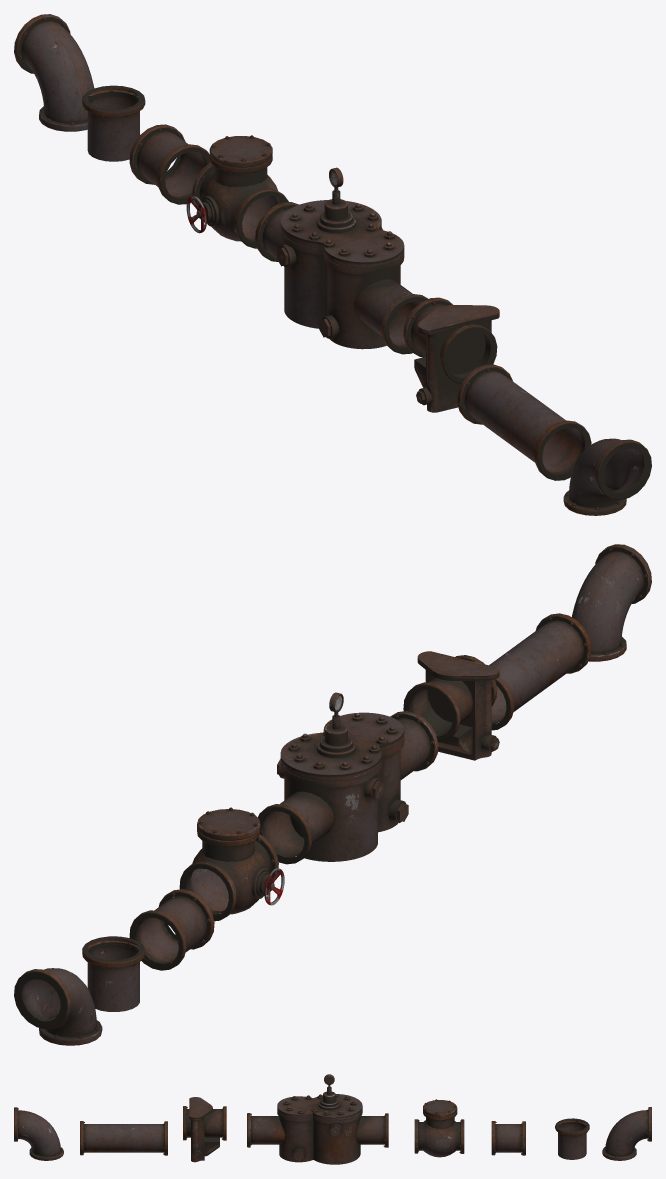
File: pipe_metalic_metal_-_14mb.glb
3 renders of one model, top to bottom at view 1: azimuth 30°, elevation 25°; view 2: azimuth 150°, elevation 25°; view 3: azimuth 270°, elevation 25°, orthographic. The views are drawn at different scales.
Visible parts, largest first — view 1: 05_01_0, 03_01_0, 04_01_0, 06_01_0, 08_01_0, 02_01_0, 07_01_0, 01_01_0; view 2: 05_01_0, 06_01_0, 04_01_0, 03_01_0, 02_01_0, 08_01_0, 07_01_0, 01_01_0; view 3: 05_01_0, 03_01_0, 06_01_0, 04_01_0, 02_01_0, 08_01_0, 01_01_0, 07_01_0.
Part boxes in pixels (left/top/right/bottom): 05_01_0: left=255, top=167, right=428, bottom=354; 03_01_0: left=457, top=364, right=591, bottom=480; 04_01_0: left=403, top=297, right=499, bottom=412; 06_01_0: left=186, top=135, right=288, bottom=248; 08_01_0: left=14, top=14, right=94, bottom=131; 02_01_0: left=563, top=438, right=651, bottom=515; 07_01_0: left=129, top=124, right=209, bottom=204; 01_01_0: left=82, top=85, right=145, bottom=161; 05_01_0: left=258, top=692, right=438, bottom=864; 06_01_0: left=179, top=807, right=284, bottom=921; 04_01_0: left=403, top=651, right=499, bottom=760; 03_01_0: left=489, top=613, right=591, bottom=730; 02_01_0: left=572, top=544, right=651, bottom=661; 08_01_0: left=14, top=968, right=102, bottom=1045; 07_01_0: left=129, top=889, right=214, bottom=970; 01_01_0: left=82, top=936, right=145, bottom=1011; 05_01_0: left=247, top=1074, right=388, bottom=1164; 03_01_0: left=80, top=1121, right=167, bottom=1155; 06_01_0: left=414, top=1099, right=464, bottom=1157; 04_01_0: left=183, top=1097, right=226, bottom=1162; 02_01_0: left=14, top=1107, right=63, bottom=1160; 08_01_0: left=602, top=1107, right=651, bottom=1160; 01_01_0: left=555, top=1118, right=589, bottom=1159; 07_01_0: left=491, top=1121, right=525, bottom=1155.
Size of the model in its own units: 0.8677 by 1.22 by 8.9.
Materials: 1 (1 with a texture image).
